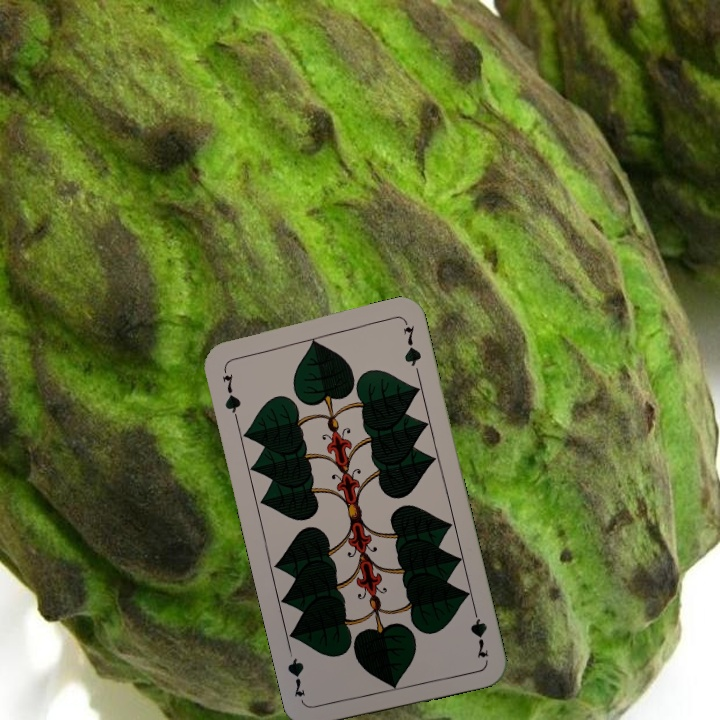G7: (218, 363, 244, 422), (466, 602, 491, 661)
